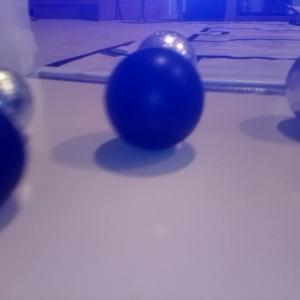alive_ball: (134, 30, 198, 94), (1, 64, 33, 139), (285, 56, 300, 121)
dead_ball: (103, 46, 205, 152), (1, 108, 27, 208)
